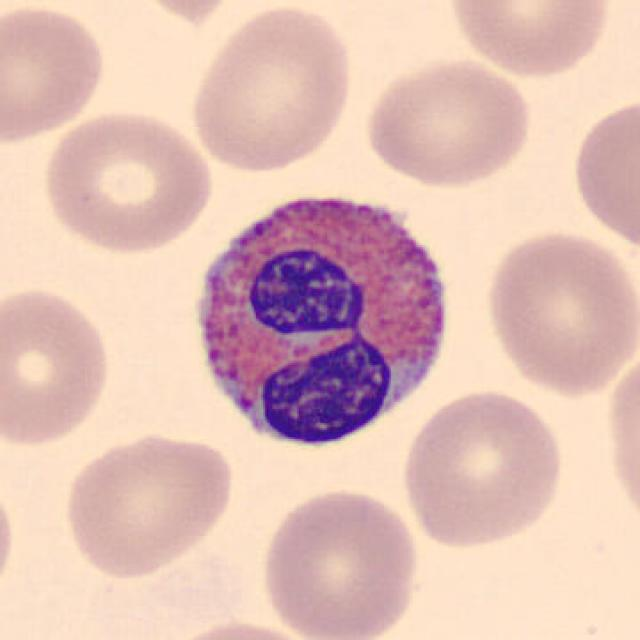Eosinophil: (182, 173, 462, 462)
RBC: (185, 2, 357, 176), (396, 386, 569, 552), (57, 426, 238, 582), (35, 106, 217, 257), (480, 224, 636, 400), (254, 485, 423, 640), (359, 54, 535, 190), (0, 282, 117, 453), (0, 0, 110, 146), (443, 0, 617, 81), (567, 92, 638, 257), (599, 338, 640, 540), (160, 615, 329, 640), (113, 0, 250, 26), (0, 467, 20, 608)
